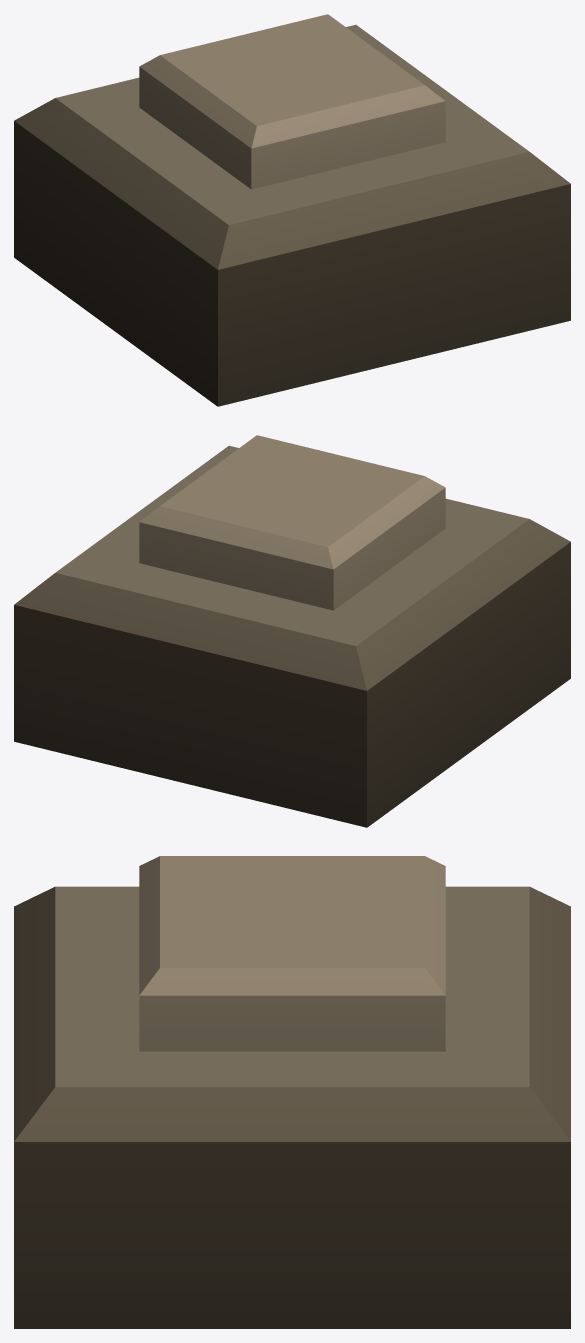
File: storage-tank.glb
The picture shows the model from 3 angles, top to bottom: view 1: azimuth 30°, elevation 25°; view 2: azimuth 150°, elevation 25°; view 3: azimuth 270°, elevation 25°; orthographic projection. The views are drawn at different scales.
Parts seen in each view (by area): view 1: storage-tank; view 2: storage-tank; view 3: storage-tank.
Part boxes in pixels (bbox=[...]): storage-tank: bbox=[14, 14, 570, 406]; storage-tank: bbox=[14, 435, 570, 827]; storage-tank: bbox=[14, 856, 570, 1328].
Bounding box in the file's own units: 0.27 × 0.16 × 0.27.
